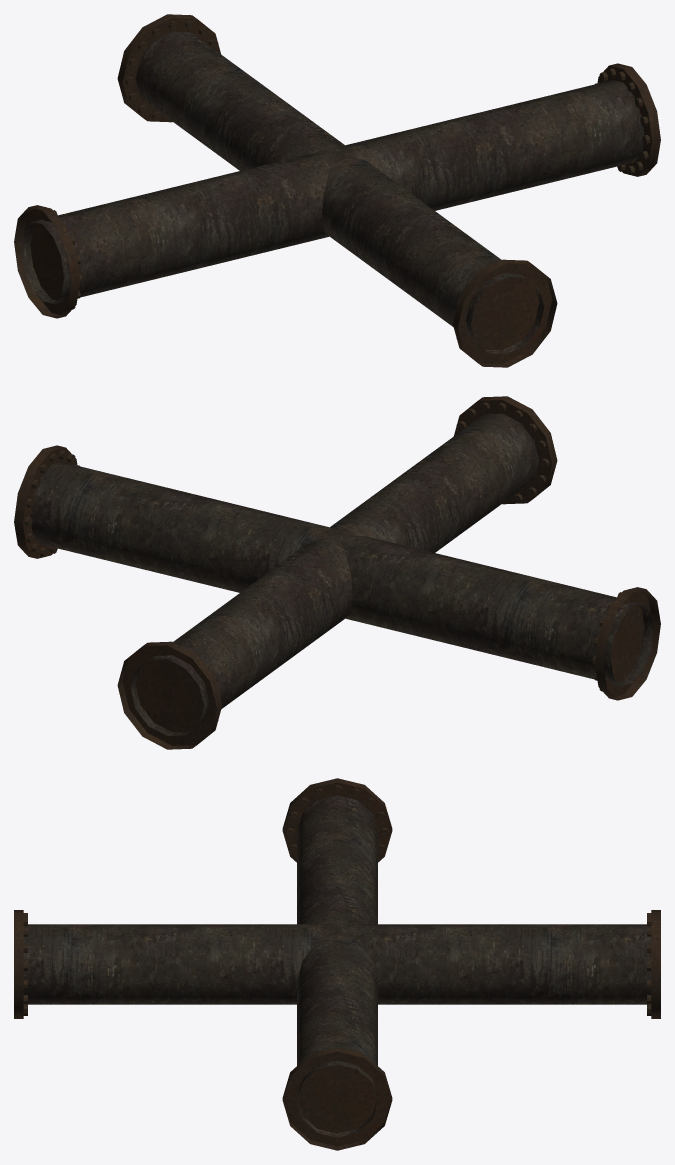
The model's file is pipe_bx_2.obj.
The picture shows the model from 3 angles, top to bottom: view 1: azimuth 30°, elevation 25°; view 2: azimuth 150°, elevation 25°; view 3: azimuth 270°, elevation 25°; orthographic projection. The views are drawn at different scales.
Visible parts, largest first — view 1: pipe_bx_2; view 2: pipe_bx_2; view 3: pipe_bx_2.
Boxes of the visible parts, box(x1,y1,x2,y2) form: pipe_bx_2: box(14, 14, 660, 367); pipe_bx_2: box(14, 396, 660, 749); pipe_bx_2: box(14, 778, 660, 1150).
Bounding box in the file's own units: 4 × 0.676 × 4.
